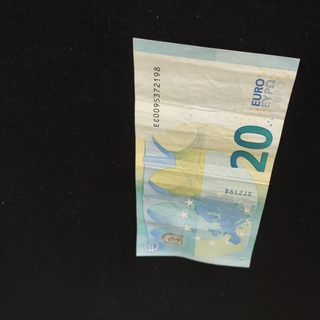20EUROBack: (132, 37, 301, 268)
